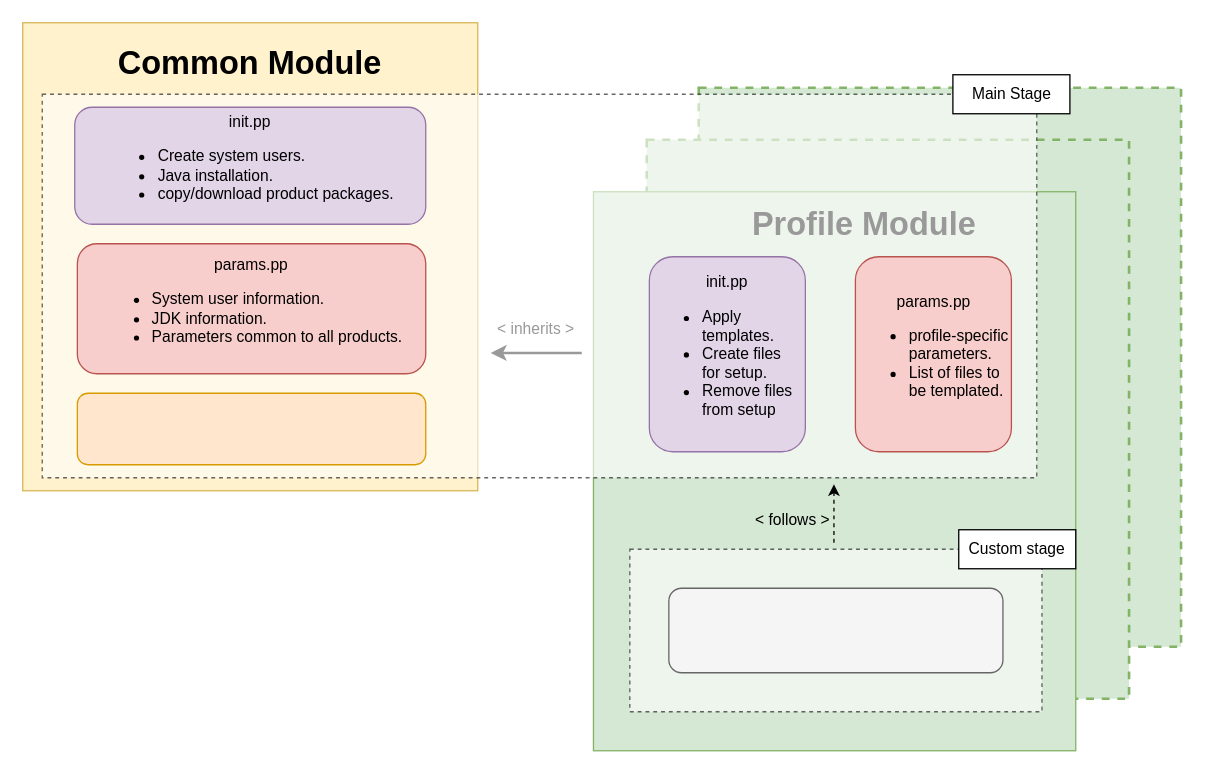
This 1205x774 diagram has some shape labels left out. The centre of each missing label's shape, as x and y in pixels:
"custom.pp Profile specific custom resources" belongs at point (835, 630).
"service.pp Run products as services." belongs at point (251, 428).
